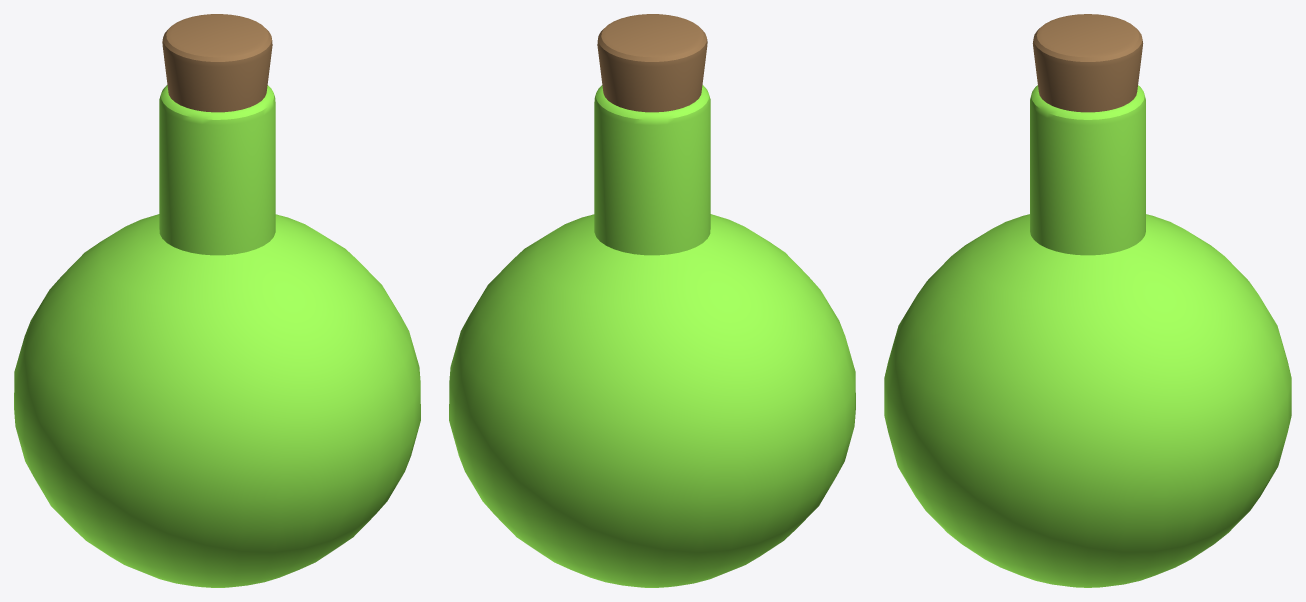
Rendered from supportweapon.fbx.
3 renders of one model, left to right at view 1: azimuth 30°, elevation 25°; view 2: azimuth 150°, elevation 25°; view 3: azimuth 270°, elevation 25°, orthographic.
Visible parts, largest first — view 1: Support_weapon.ori; view 2: Support_weapon.ori; view 3: Support_weapon.ori.
Boxes of the visible parts, x1=… form: Support_weapon.ori: x1=14, y1=14, x2=420, y2=587; Support_weapon.ori: x1=449, y1=14, x2=855, y2=587; Support_weapon.ori: x1=884, y1=14, x2=1291, y2=587.
Bounding box in the file's own units: 195 × 278 × 195.
